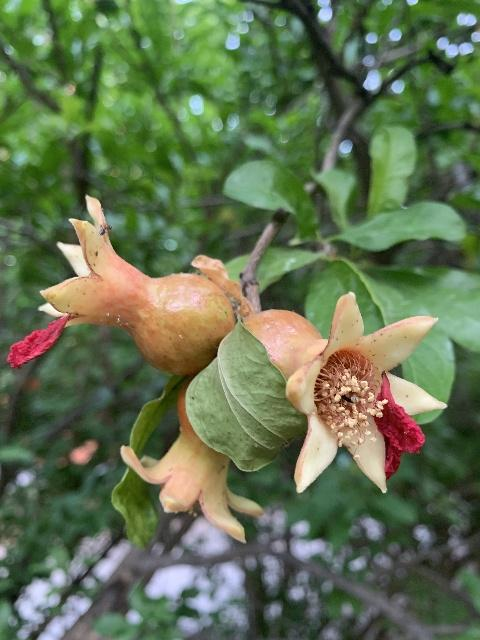early-fruit: (237, 290, 446, 495), (10, 195, 237, 377), (120, 377, 263, 543)
